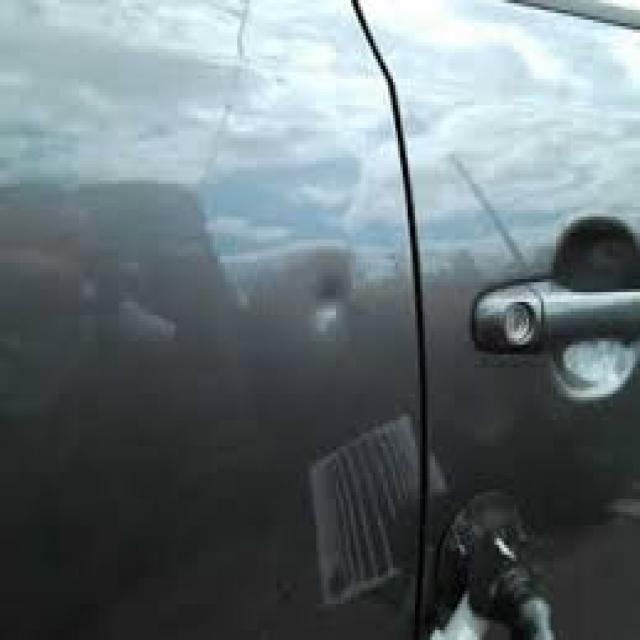minor: (311, 247, 357, 357)
